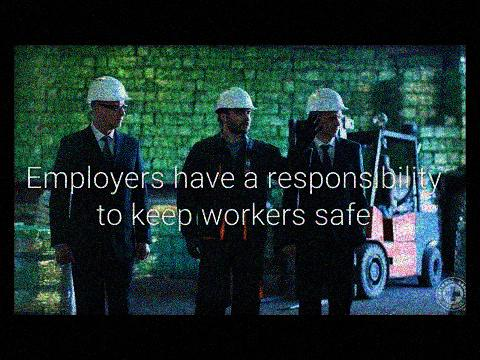helmet: (87, 74, 132, 129), (306, 86, 349, 137), (214, 84, 255, 133)
